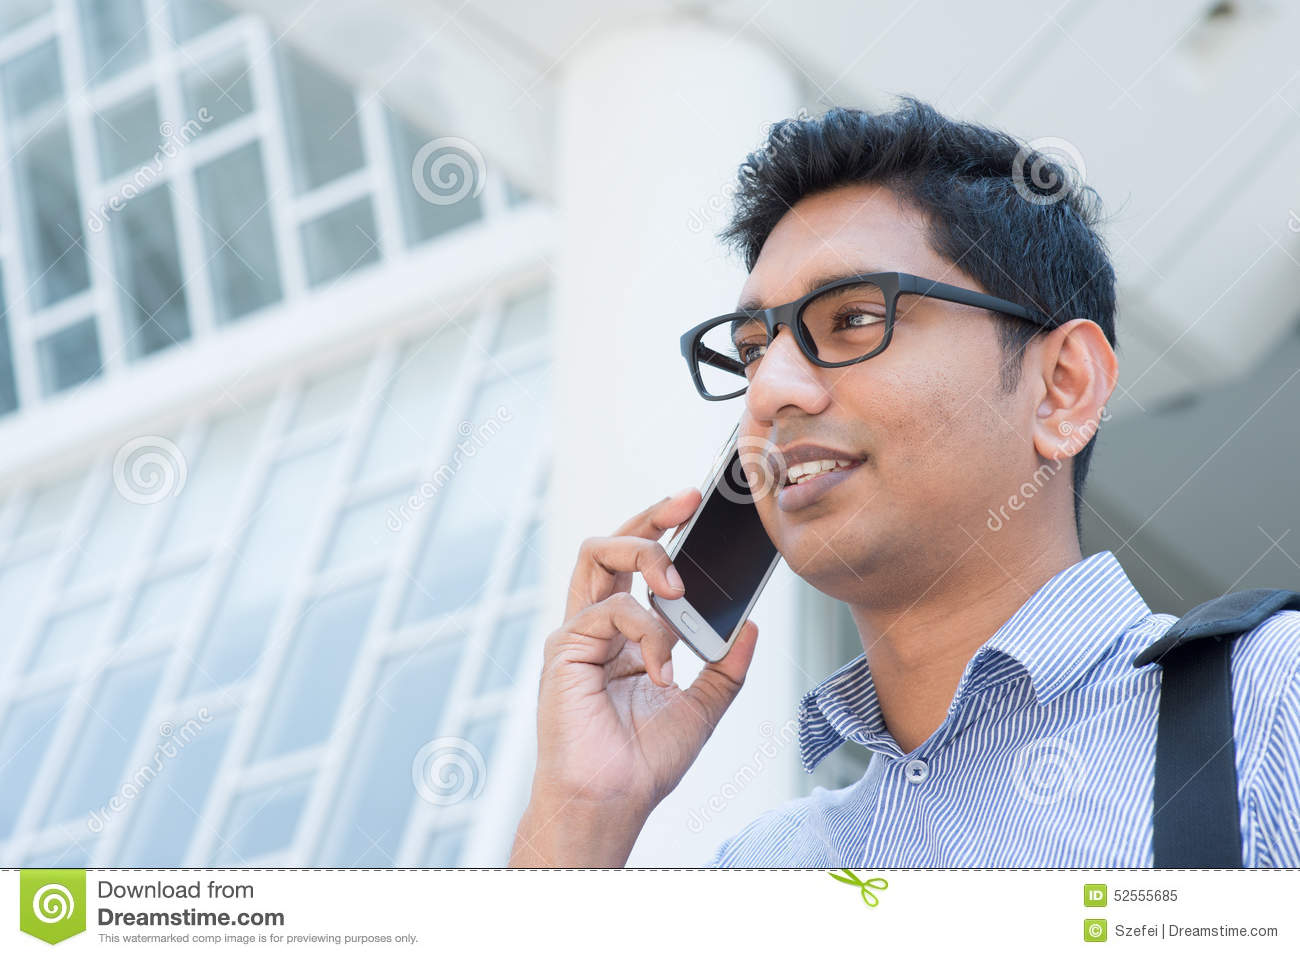phone: (653, 413, 776, 666)
talk: (514, 261, 940, 833)
